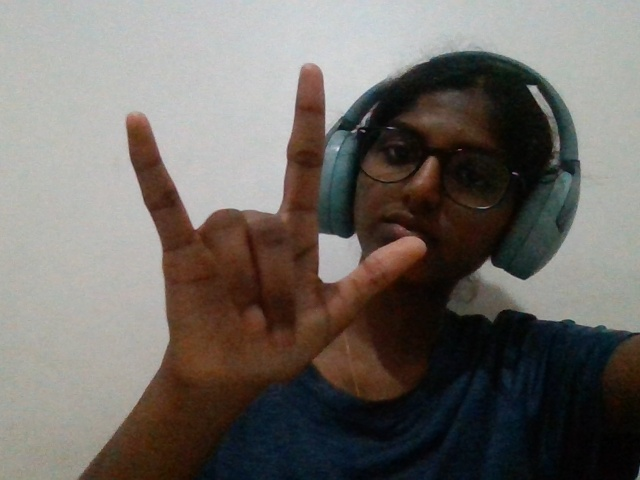I Love You: (65, 48, 467, 443)
